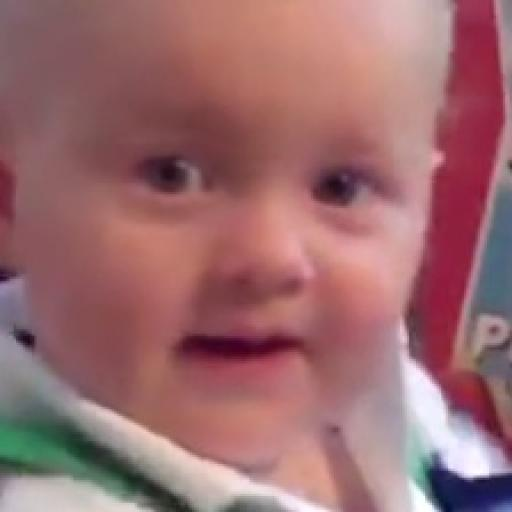Autism: (20, 0, 512, 507)
